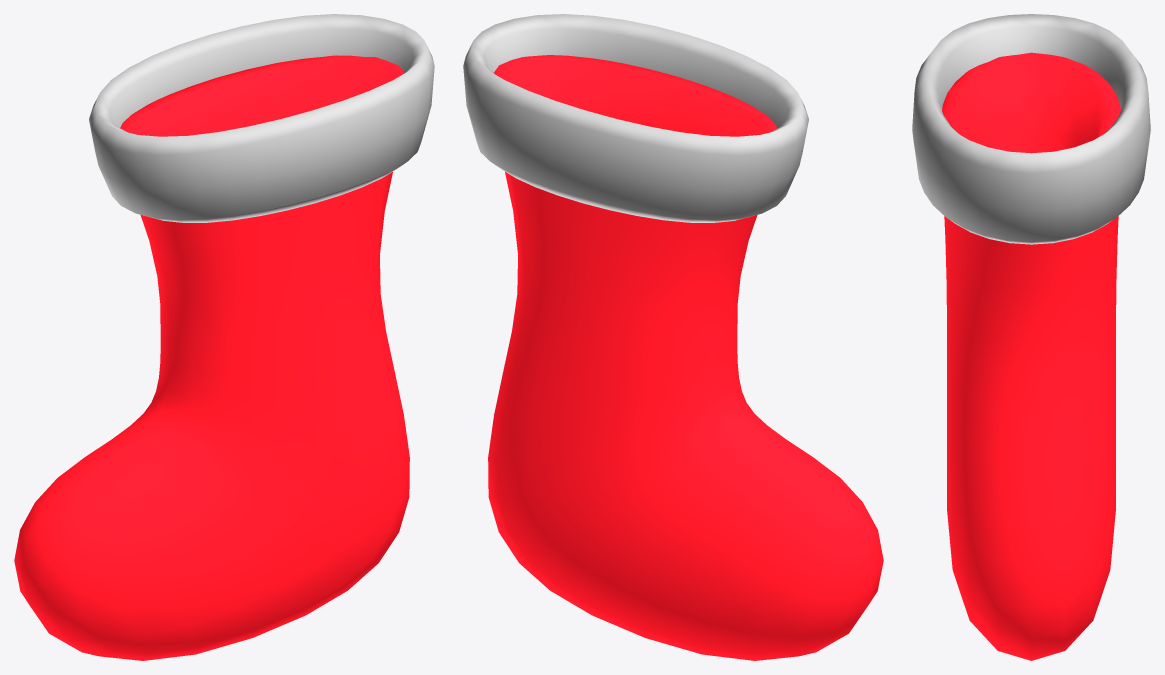
Rendered from stocking.fbx.
3 views of the same model, side by side, from view 1: azimuth 30°, elevation 25°; view 2: azimuth 150°, elevation 25°; view 3: azimuth 270°, elevation 25° (orthographic). The views are drawn at different scales.
Parts seen in each view (by area): view 1: Cube; view 2: Cube; view 3: Cube.
Part boxes in pixels (x1,y1,x2,y2): Cube: [14, 14, 434, 660]; Cube: [463, 14, 883, 660]; Cube: [912, 14, 1150, 660].
Bounding box in the file's own units: 38.24 × 51.08 × 19.2.
